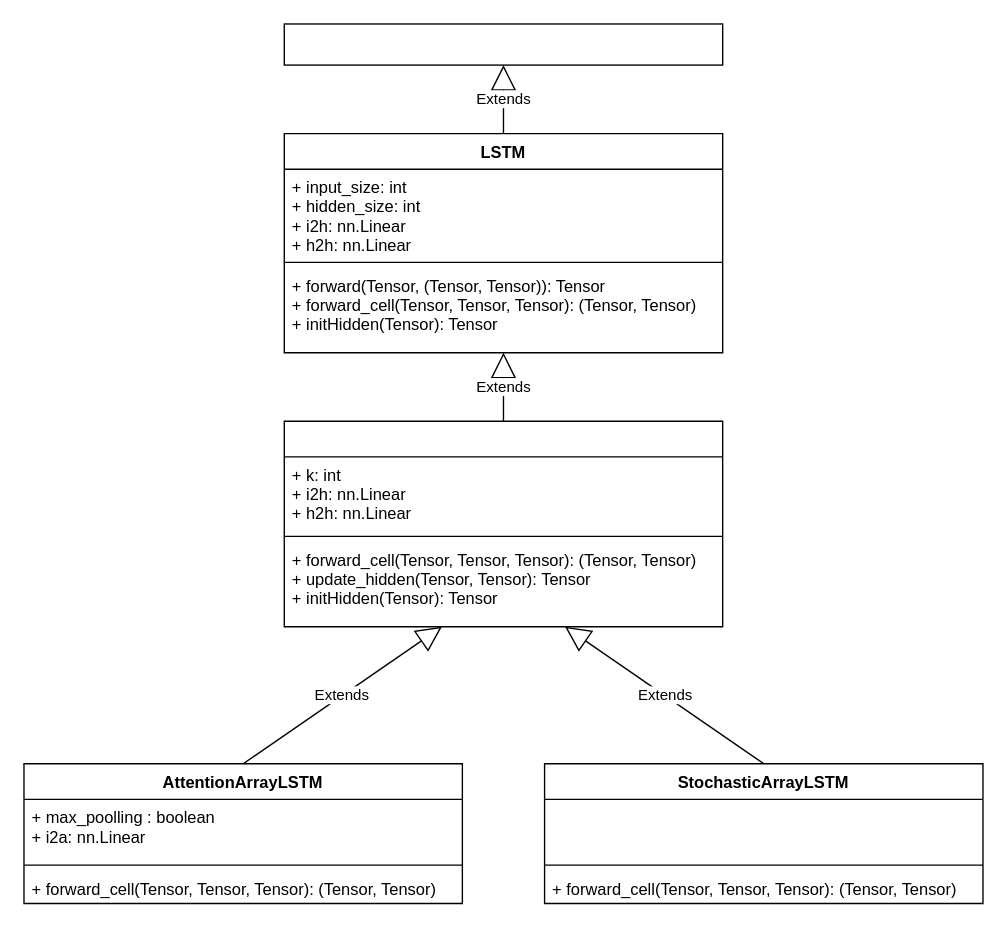
Some shapes in this 1007 by 932 pixel diagram are drawn without their labels. Here are the shapes that lost their labels. From the top down, the box of each, then its label:
(283, 23, 723, 65): nn.Module
(283, 420, 723, 627): ArrayLSTM
